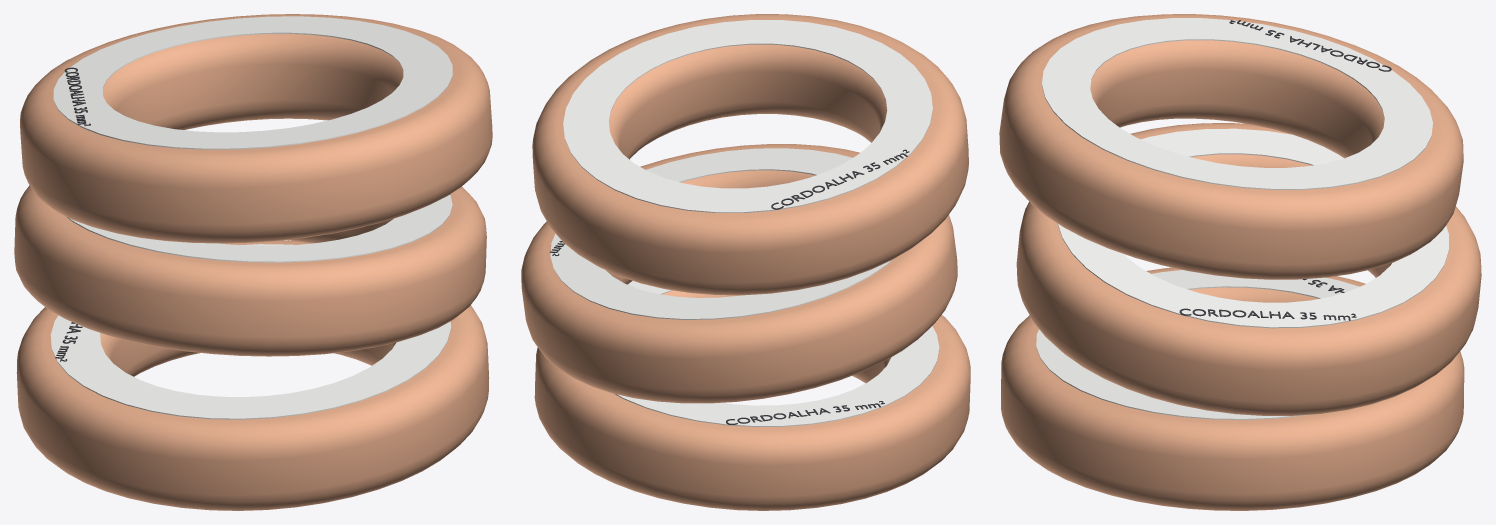
The model's file is ELE-SPD-003_anim.glb.
3 renders of one model, left to right at view 1: azimuth 30°, elevation 25°; view 2: azimuth 150°, elevation 25°; view 3: azimuth 270°, elevation 25°, orthographic. The views are drawn at different scales.
Visible parts, largest first — view 1: ELE-SPD-003_anim2, ELE-SPD-003_anim0, ELE-SPD-003_anim1; view 2: ELE-SPD-003_anim2, ELE-SPD-003_anim1, ELE-SPD-003_anim0; view 3: ELE-SPD-003_anim2, ELE-SPD-003_anim1, ELE-SPD-003_anim0.
Part boxes in pixels (x1,y1,x2,y2): ELE-SPD-003_anim2: [20, 14, 492, 243]; ELE-SPD-003_anim0: [16, 240, 489, 510]; ELE-SPD-003_anim1: [14, 185, 486, 356]; ELE-SPD-003_anim2: [532, 14, 968, 295]; ELE-SPD-003_anim1: [521, 144, 957, 403]; ELE-SPD-003_anim0: [534, 281, 970, 510]; ELE-SPD-003_anim2: [999, 14, 1463, 279]; ELE-SPD-003_anim1: [1016, 123, 1481, 415]; ELE-SPD-003_anim0: [1001, 267, 1464, 510].
Size of the model in its own units: 0.4066 by 0.3402 by 0.4157.
